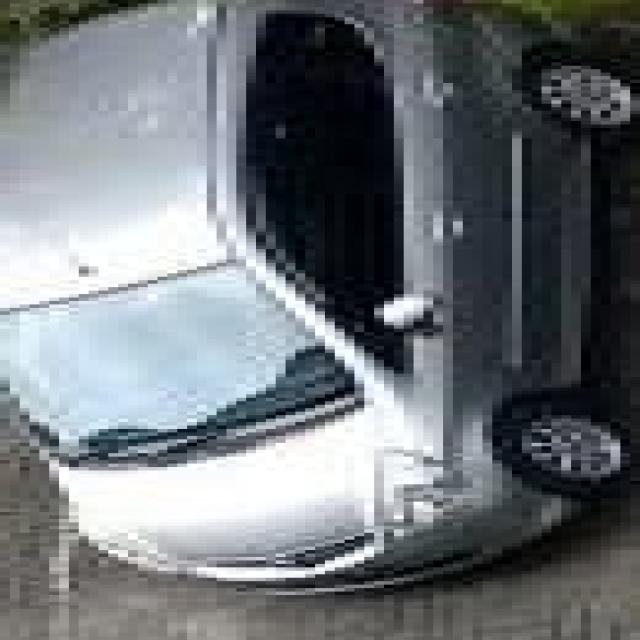Car: (22, 31, 599, 588)
